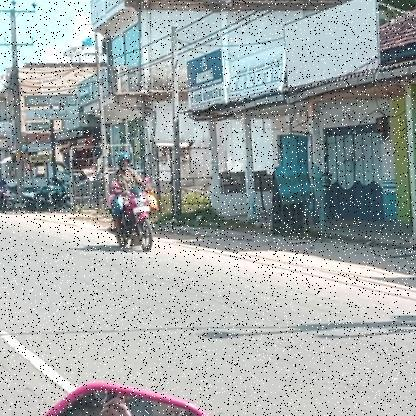motorcycle: (105, 184, 156, 256)
